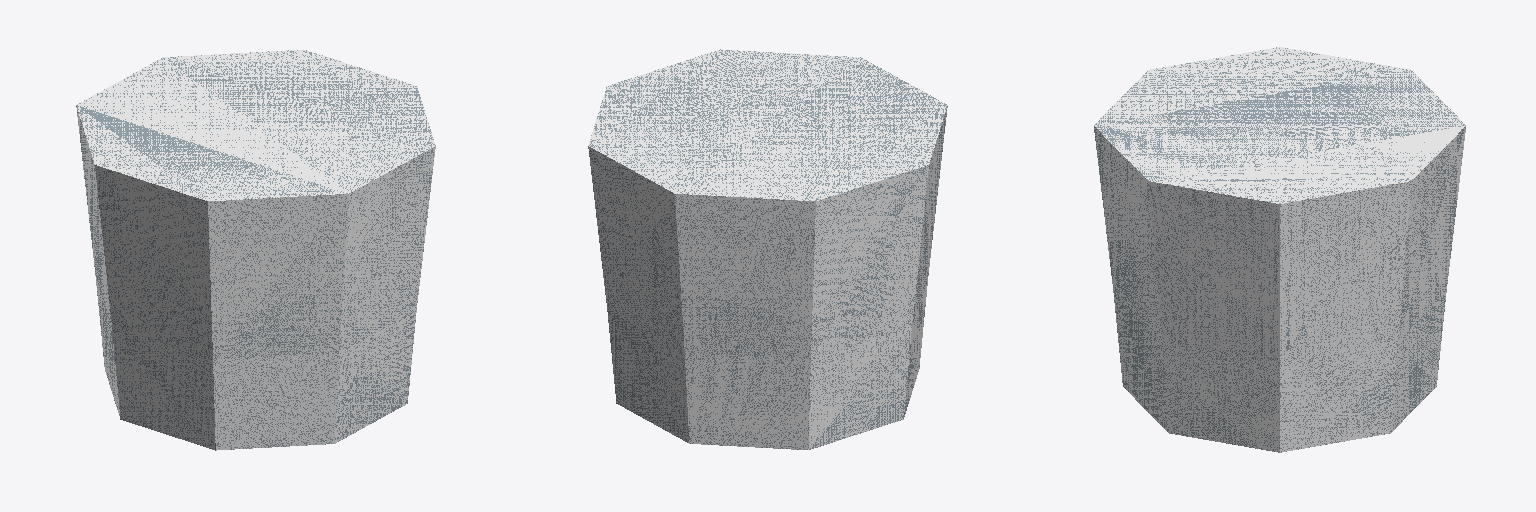
The model's file is Erlenmeyer_Stopper_Highlight.obj.
3 views of the same model, side by side, from view 1: azimuth 30°, elevation 25°; view 2: azimuth 150°, elevation 25°; view 3: azimuth 270°, elevation 25° (orthographic).
Visible parts, largest first — view 1: Mesh1 Model; view 2: Mesh1 Model; view 3: Mesh1 Model.
Boxes of the visible parts, box(x1,y1,x2,y2) form: Mesh1 Model: box(76, 49, 435, 450); Mesh1 Model: box(588, 49, 947, 449); Mesh1 Model: box(1094, 47, 1465, 452).
Bounding box in the file's own units: 0.0768 × 0.0594 × 0.0769.